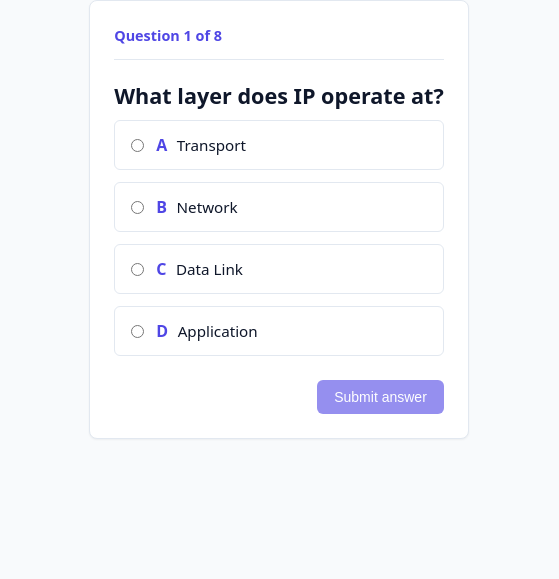
Test: Adaptive Quiz Flow › renders Question 1 of 8, submits answer with correct payload, displays feedback, and shows final result card
Check: the text "Question 1 of 8" is shown, box [114,25,222,47]
Check: the heading "What layer does IP operate at?" is shown, box [114,80,444,112]
Select option B
Click the radio button labelled "B Network". click: {"x": 138, "y": 207}
box: [131,200,144,214]
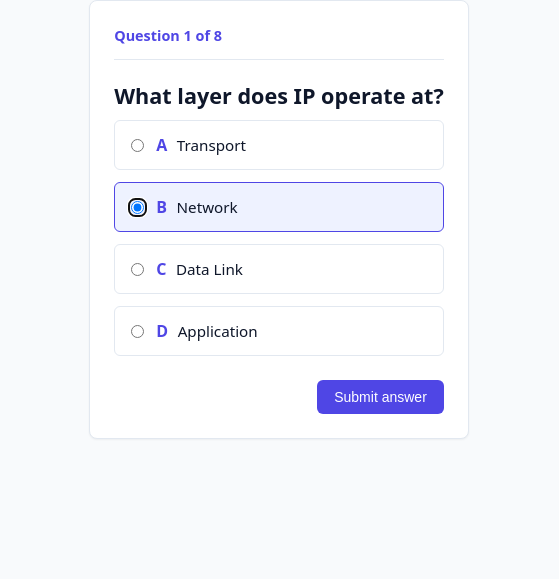
Check: the button "Submit answer" is enabled
Submit question 1 answer
Click the button "Submit answer". click: {"x": 380, "y": 397}
box: [317,380,444,414]
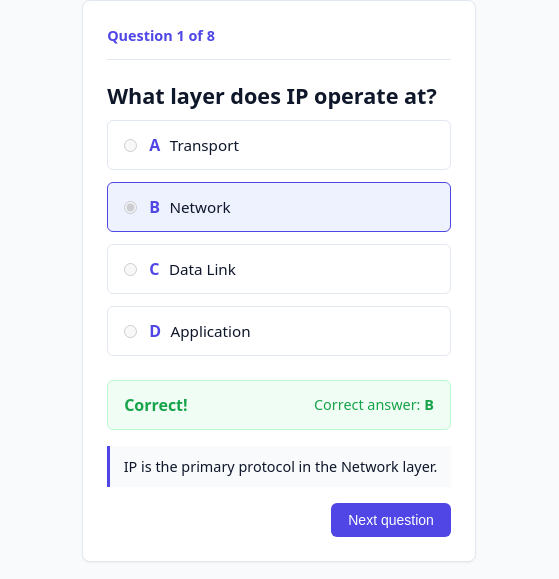
Check: the text "Correct!" is shown, box [124,393,188,417]
Check: the text "Correct answer: B" is shown, box [314,394,434,416]
Check: the text "IP is the primary protocol in the Network layer." is shown, box [107,446,451,487]
Click Next question
Click the button "Next question". click: {"x": 391, "y": 520}
box: [331,503,451,537]
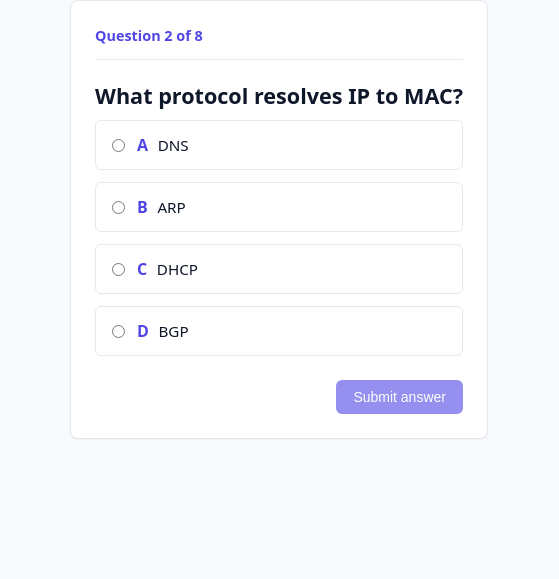
Check: the text "Question 2 of 8" is shown, box [95,25,203,47]
Check: the heading "What protocol resolves IP to MAC?" is shown, box [95,80,463,112]
Select Option B (ARP) and submit
Click the radio button labelled "B ARP". click: {"x": 118, "y": 207}
box: [112,200,125,214]
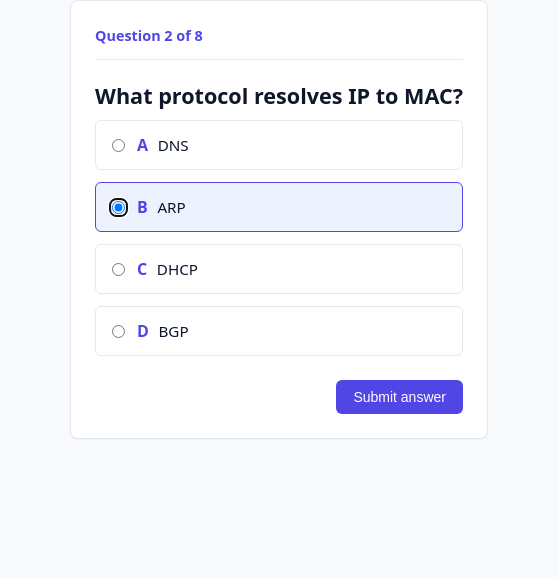
Click the button "Submit answer". click: {"x": 400, "y": 397}
box: [336,380,463,414]
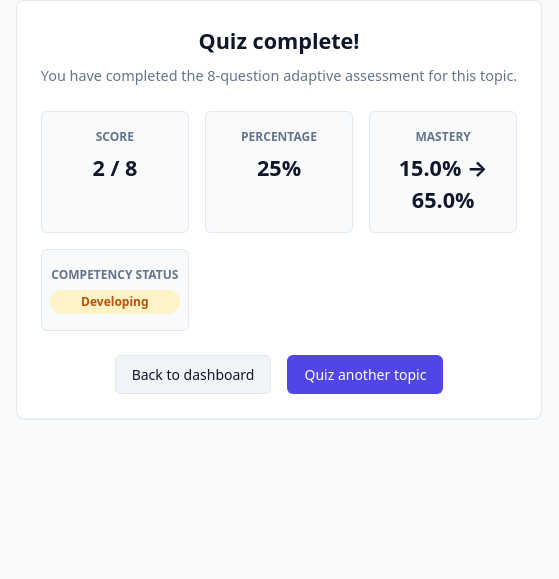
Check: the heading "Quiz complete!" is shown, box [198,26,360,55]
Check: the text "2 / 8" is shown, box [92,153,137,182]
Check: the text "25%" is shown, box [257,153,301,182]
